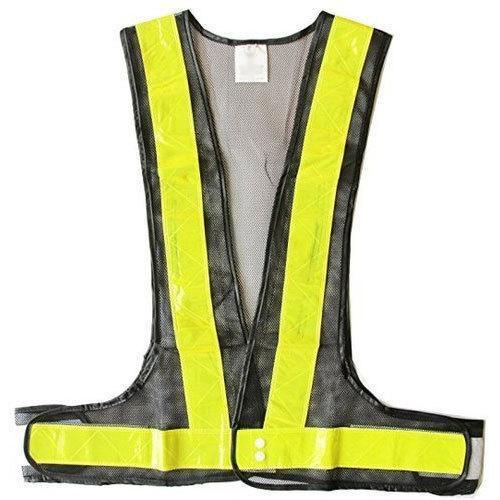vest: (13, 4, 485, 496)
